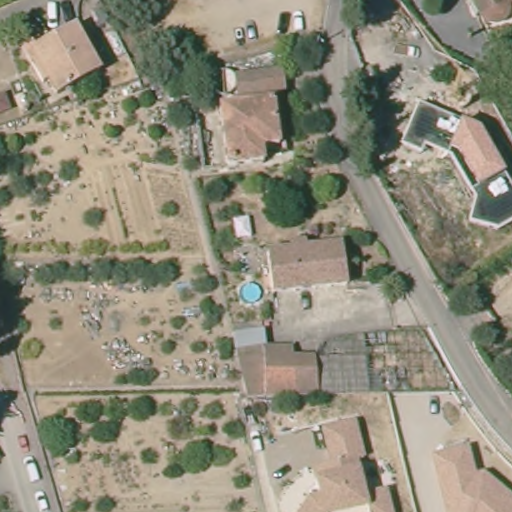pool: (236, 277, 266, 305)
